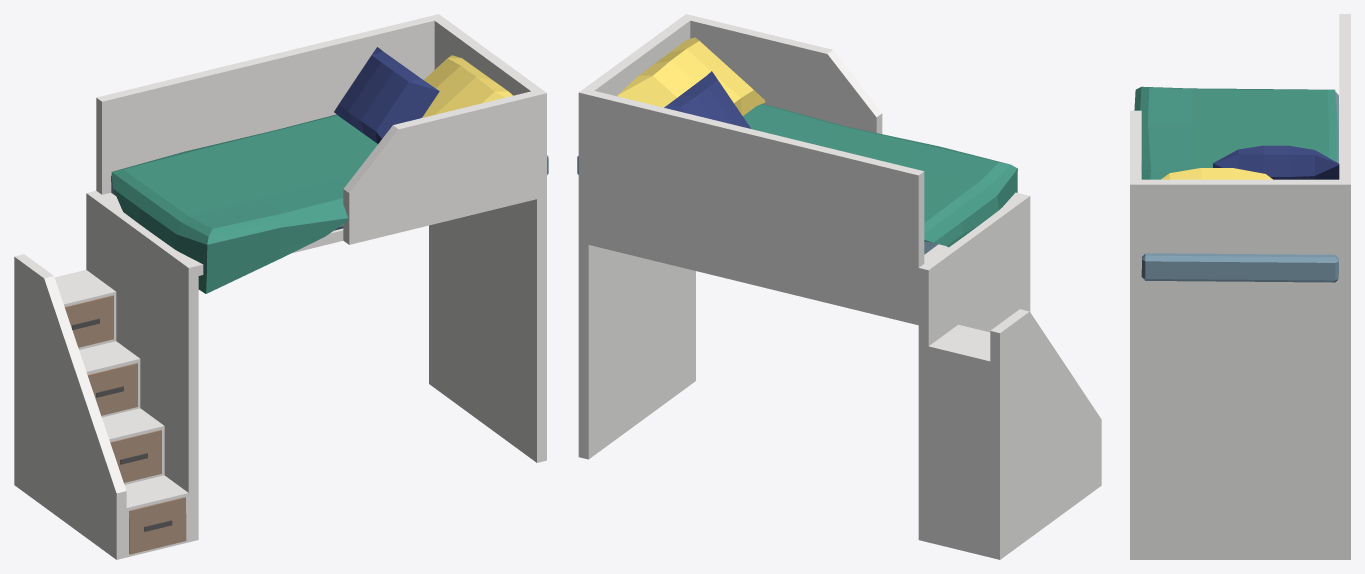
File: Bed_base_1.fbx
3 renders of one model, left to right at view 1: azimuth 30°, elevation 25°; view 2: azimuth 150°, elevation 25°; view 3: azimuth 270°, elevation 25°, orthographic. The views are drawn at different scales.
Parts seen in each view (by area): view 1: Bed_base_1; view 2: Bed_base_1; view 3: Bed_base_1.
Part boxes in pixels (x1,y1,x2,y2): Bed_base_1: (14, 14, 548, 559); Bed_base_1: (577, 14, 1101, 559); Bed_base_1: (1130, 14, 1350, 559).
Size of the model in its own units: 358 by 155 by 290.
